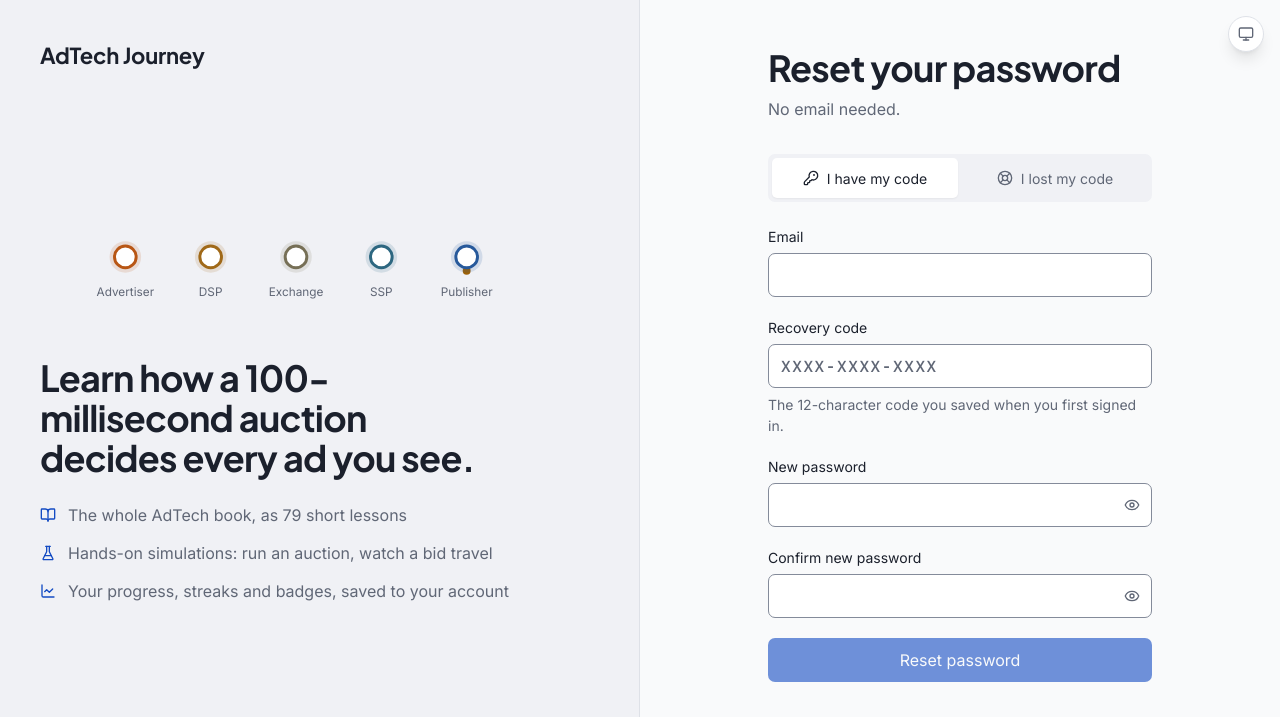
Test: forgot password › lets a learner who lost their code ask an admin
The image size is (1280, 717).
Click the tab "I lost my code" at (1055, 178), box x1=962 y1=158 x2=1148 y2=198
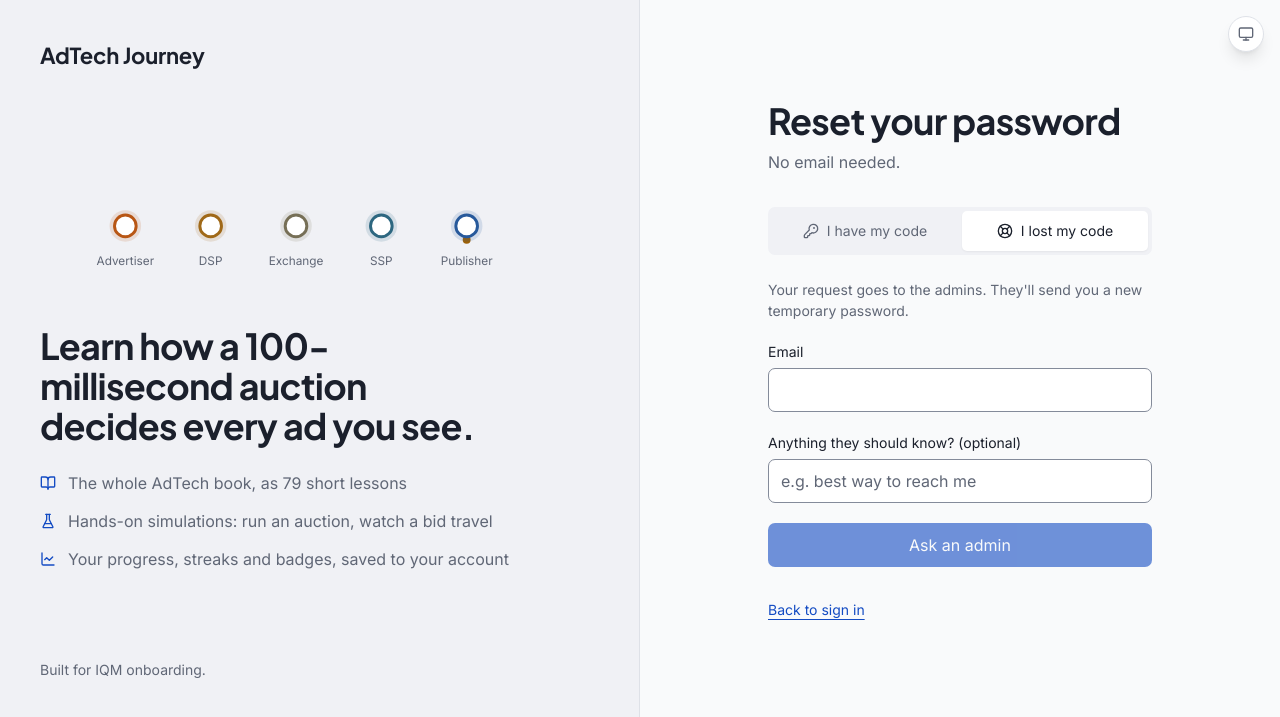
Type "Me@IQM.com" into the field labelled "Email" at (960, 390), box x1=768 y1=368 x2=1152 y2=412
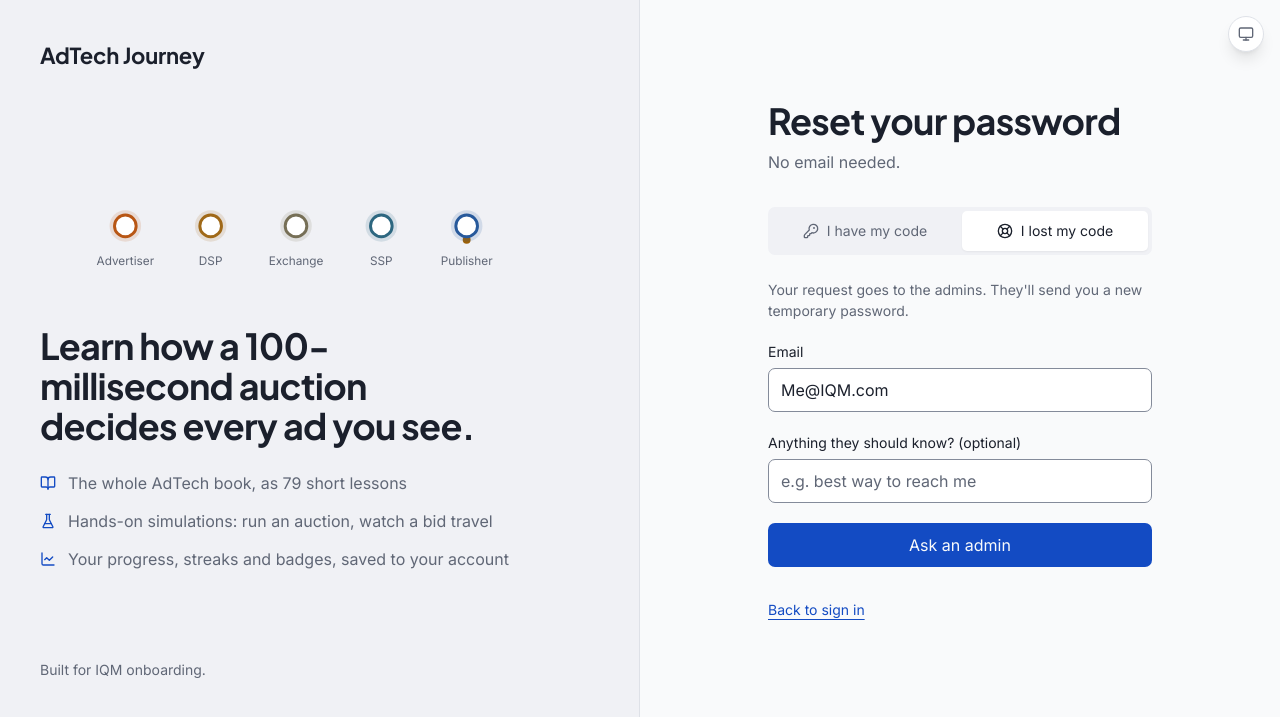
Click the button "Ask an admin" at (960, 544), box x1=768 y1=522 x2=1152 y2=566
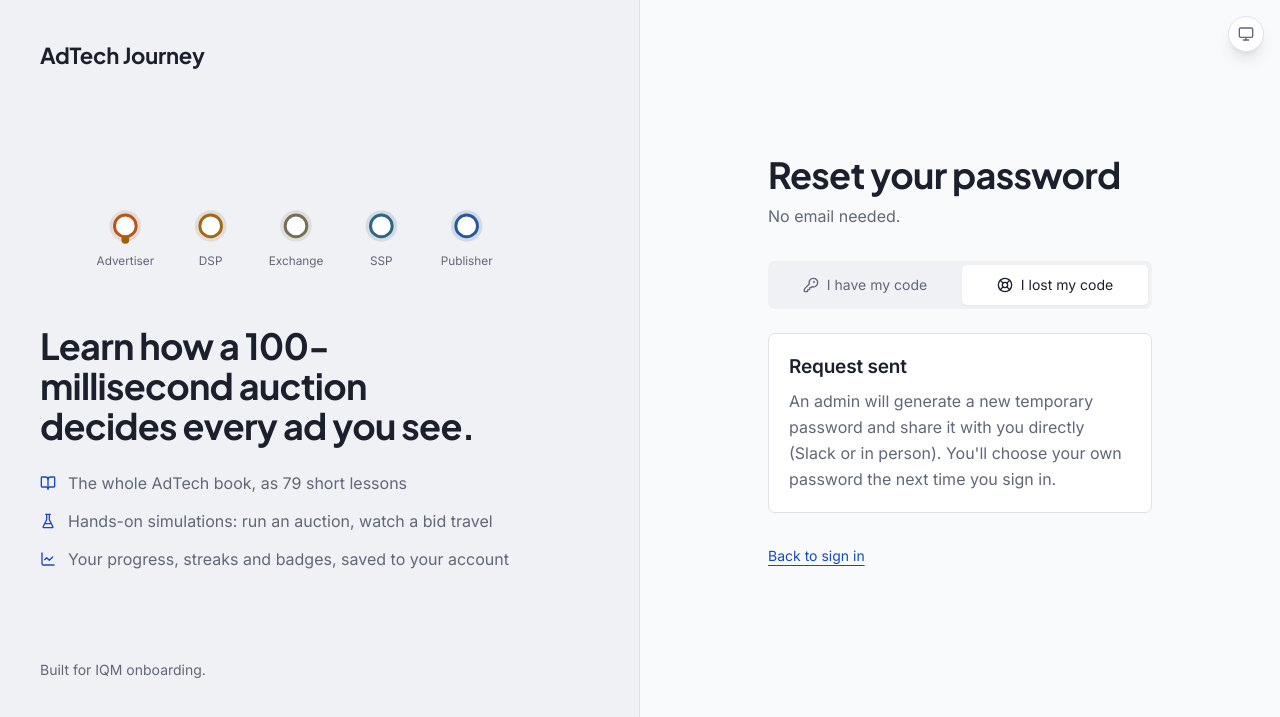
Expected: the heading "Request sent" is shown, x1=789 y1=354 x2=907 y2=378
